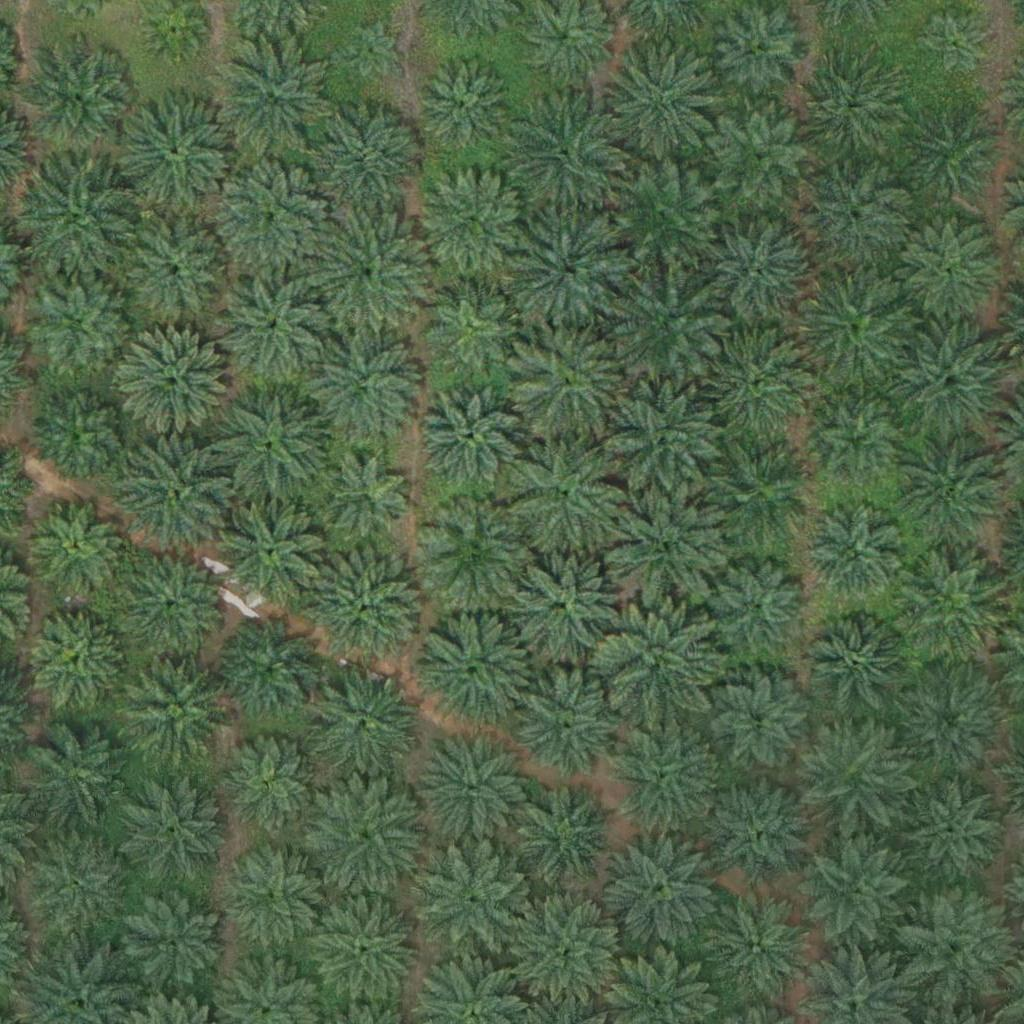Kelapa_Sawit: (604, 155, 717, 269), (510, 91, 623, 205), (611, 265, 724, 379), (896, 431, 1009, 545), (23, 717, 136, 831), (510, 213, 623, 326), (213, 37, 326, 150), (217, 160, 330, 273), (119, 97, 232, 210), (119, 327, 232, 440), (212, 272, 325, 385), (215, 386, 328, 499), (216, 491, 329, 604), (310, 551, 423, 664), (420, 610, 533, 723), (511, 326, 624, 439), (606, 385, 719, 498), (608, 491, 721, 604), (602, 606, 715, 719), (800, 264, 913, 377), (897, 324, 1010, 437), (801, 837, 914, 950), (699, 886, 812, 999), (515, 897, 628, 1010), (416, 732, 529, 845), (420, 848, 533, 961), (307, 667, 420, 780), (312, 781, 425, 894), (20, 830, 133, 943), (699, 216, 811, 330), (117, 652, 229, 766), (707, 324, 819, 438), (897, 556, 1009, 670), (313, 895, 425, 1009), (116, 776, 228, 890), (798, 161, 910, 274), (606, 41, 718, 154), (417, 168, 529, 281), (311, 102, 423, 215), (313, 215, 425, 328), (119, 216, 231, 329), (23, 43, 135, 156), (22, 165, 134, 278), (117, 440, 229, 553), (115, 550, 227, 663), (307, 333, 419, 446), (419, 496, 531, 609), (513, 438, 625, 551), (511, 544, 623, 657), (704, 439, 816, 552), (893, 665, 1005, 778), (893, 890, 1005, 1003), (796, 719, 908, 832), (608, 723, 720, 836), (605, 834, 717, 947), (515, 668, 627, 781), (903, 103, 1003, 204), (901, 219, 1001, 320), (798, 59, 898, 160), (711, 3, 811, 104), (711, 106, 811, 207), (33, 273, 133, 374), (34, 383, 134, 484), (218, 618, 318, 719), (318, 451, 418, 552), (422, 273, 522, 374), (418, 384, 518, 485), (708, 556, 808, 657), (710, 675, 810, 776), (810, 617, 910, 718), (904, 782, 1004, 883), (710, 779, 810, 880), (520, 785, 620, 886), (413, 54, 513, 154), (32, 498, 132, 598), (28, 610, 128, 710), (805, 504, 905, 604), (219, 737, 319, 837), (224, 851, 324, 951), (127, 895, 227, 995), (811, 401, 899, 489), (914, 9, 989, 84), (340, 18, 402, 81)
